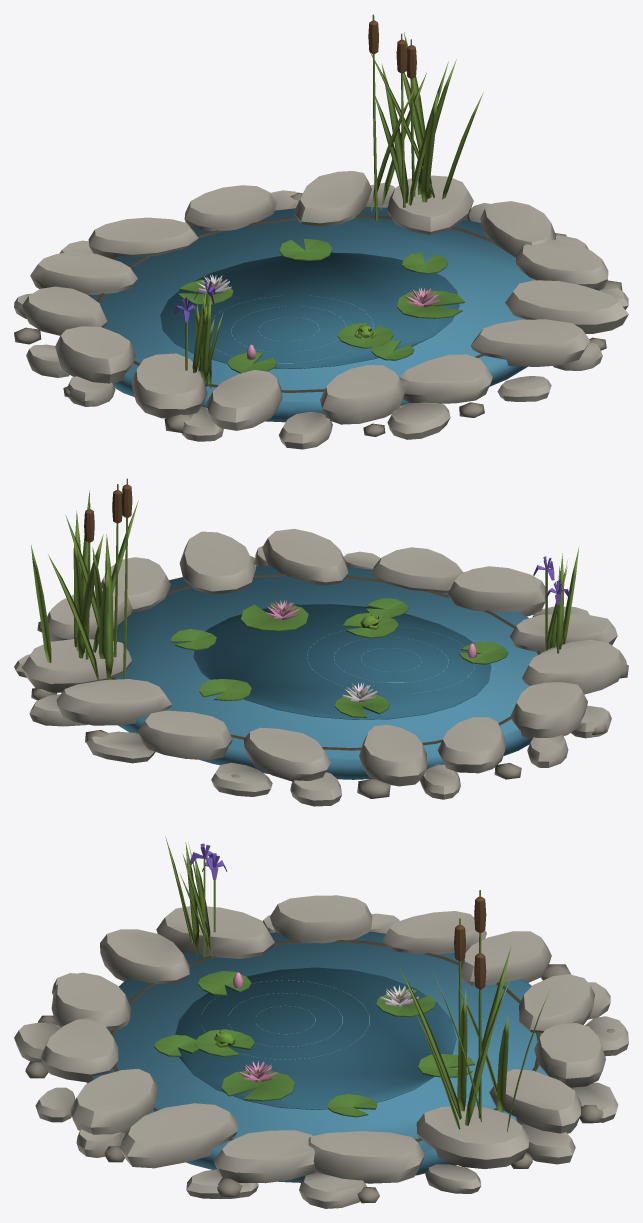
File: pond.glb
3 renders of one model, top to bottom at view 1: azimuth 30°, elevation 25°; view 2: azimuth 150°, elevation 25°; view 3: azimuth 270°, elevation 25°, orthographic. The views are drawn at different scales.
Parts seen in each view (by area): view 1: pond; view 2: pond; view 3: pond.
Boxes of the visible parts, left/top/right/bottom form: pond: left=14, top=14, right=628, bottom=449; pond: left=14, top=478, right=628, bottom=806; pond: left=14, top=836, right=628, bottom=1208.
Bounding box in the file's own units: 2 × 0.8019 × 1.83.
